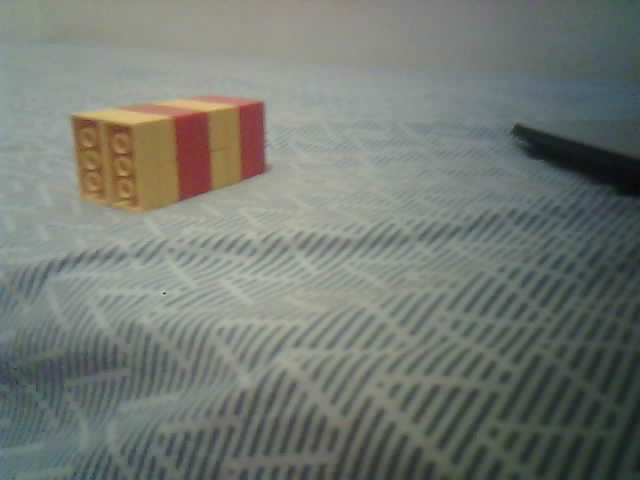lego: (68, 94, 267, 213)
